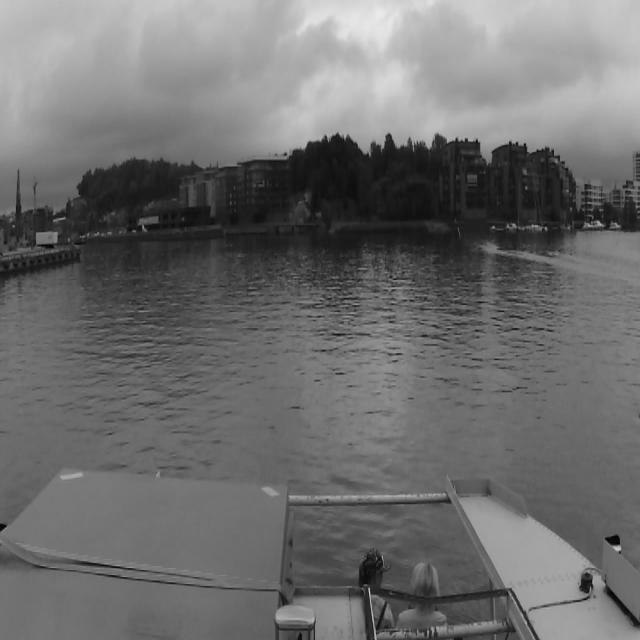ship: (531, 178, 547, 232), (518, 177, 530, 231), (506, 220, 518, 233), (592, 219, 604, 230), (610, 222, 620, 230), (582, 222, 591, 230), (490, 224, 496, 231)
